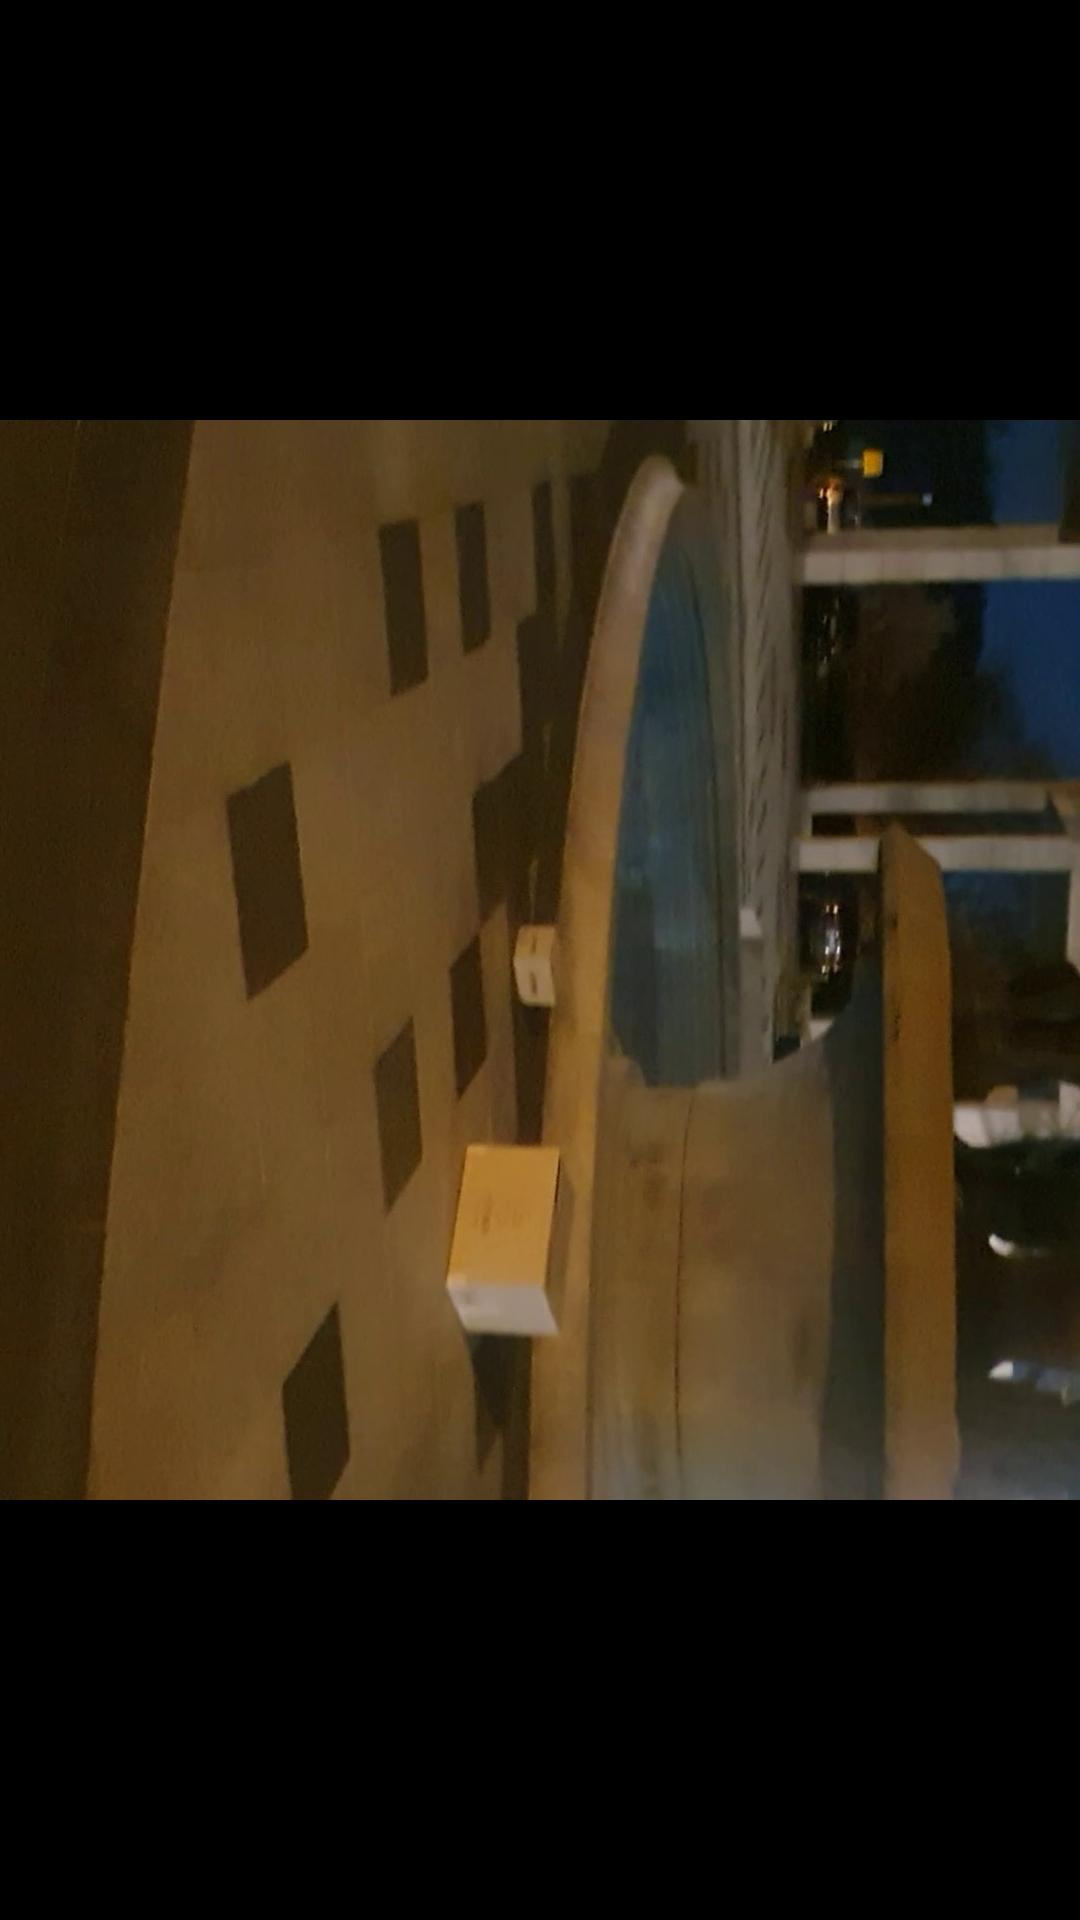Box: (444, 1124, 578, 1349), (510, 898, 582, 1040)
